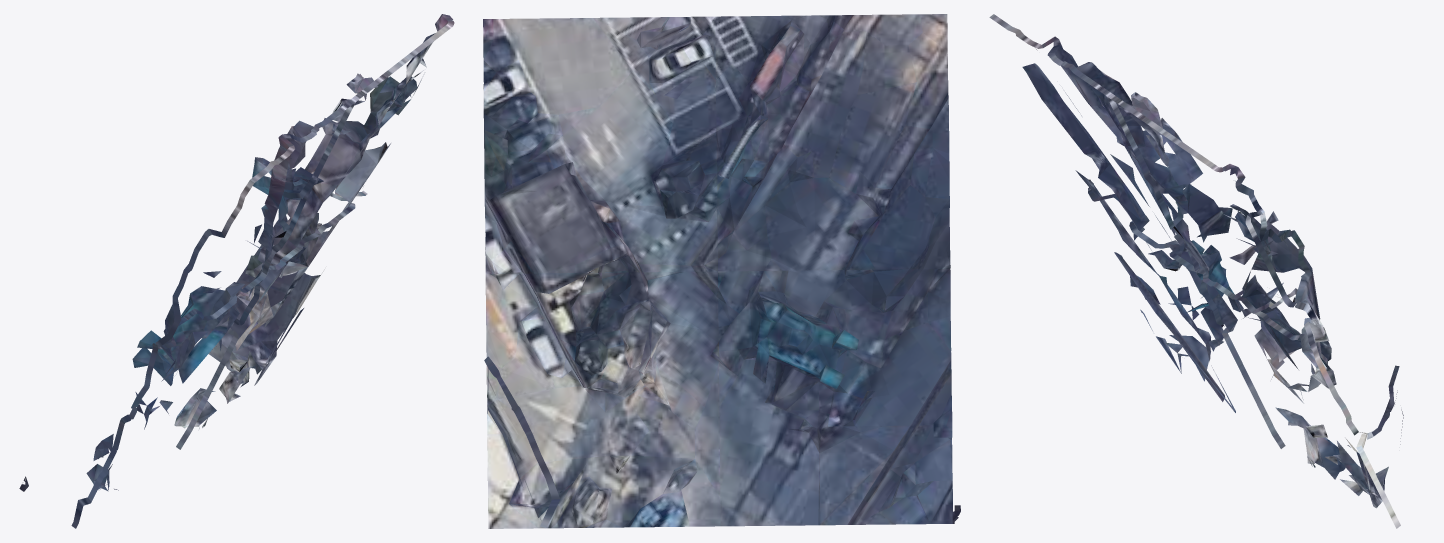
3 views of the same model, side by side, from view 1: azimuth 30°, elevation 25°; view 2: azimuth 150°, elevation 25°; view 3: azimuth 270°, elevation 25° (orthographic). The views are drawn at different scales.
Size of the model in its own units: 40.81 by 35.33 by 34.53.
Materials: 2 (2 with a texture image).
